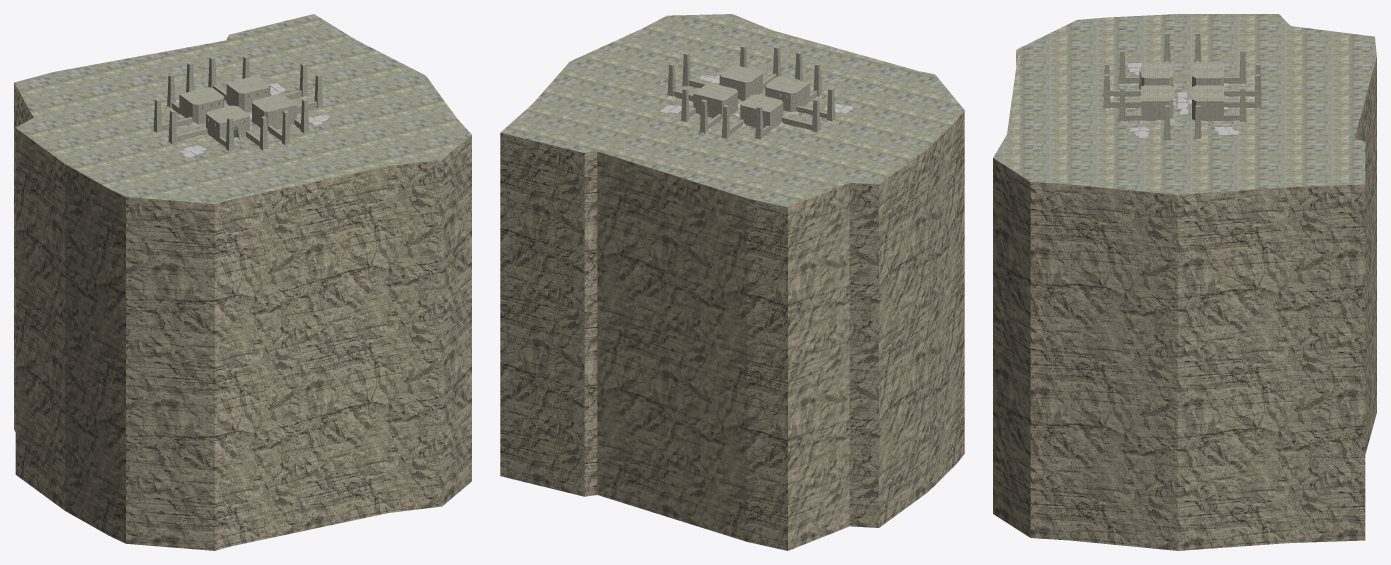
The model's file is SM_TheSamePlace_02_Block_00.fbx.
3 renders of one model, left to right at view 1: azimuth 30°, elevation 25°; view 2: azimuth 150°, elevation 25°; view 3: azimuth 270°, elevation 25°, orthographic. The views are drawn at different scales.
Visible parts, largest first — view 1: SM_TheSamePlace_01_Block_00.001, SM_TheSamePlace_01_Block_00.002, SM_TheSamePlace_02_Block_00; view 2: SM_TheSamePlace_01_Block_00.001, SM_TheSamePlace_01_Block_00.002, SM_TheSamePlace_02_Block_00; view 3: SM_TheSamePlace_01_Block_00.001, SM_TheSamePlace_01_Block_00.002, SM_TheSamePlace_02_Block_00.
Boxes of the visible parts, x1,y1,x2,y2 form: SM_TheSamePlace_01_Block_00.001: [14, 83, 471, 550]; SM_TheSamePlace_01_Block_00.002: [14, 14, 471, 203]; SM_TheSamePlace_02_Block_00: [153, 56, 330, 156]; SM_TheSamePlace_01_Block_00.001: [500, 110, 964, 550]; SM_TheSamePlace_01_Block_00.002: [500, 14, 964, 207]; SM_TheSamePlace_02_Block_00: [659, 45, 852, 139]; SM_TheSamePlace_01_Block_00.001: [993, 51, 1376, 550]; SM_TheSamePlace_01_Block_00.002: [993, 14, 1376, 194]; SM_TheSamePlace_02_Block_00: [1103, 32, 1261, 139].
Bounding box in the file's own units: 13227 × 13241 × 11860.
